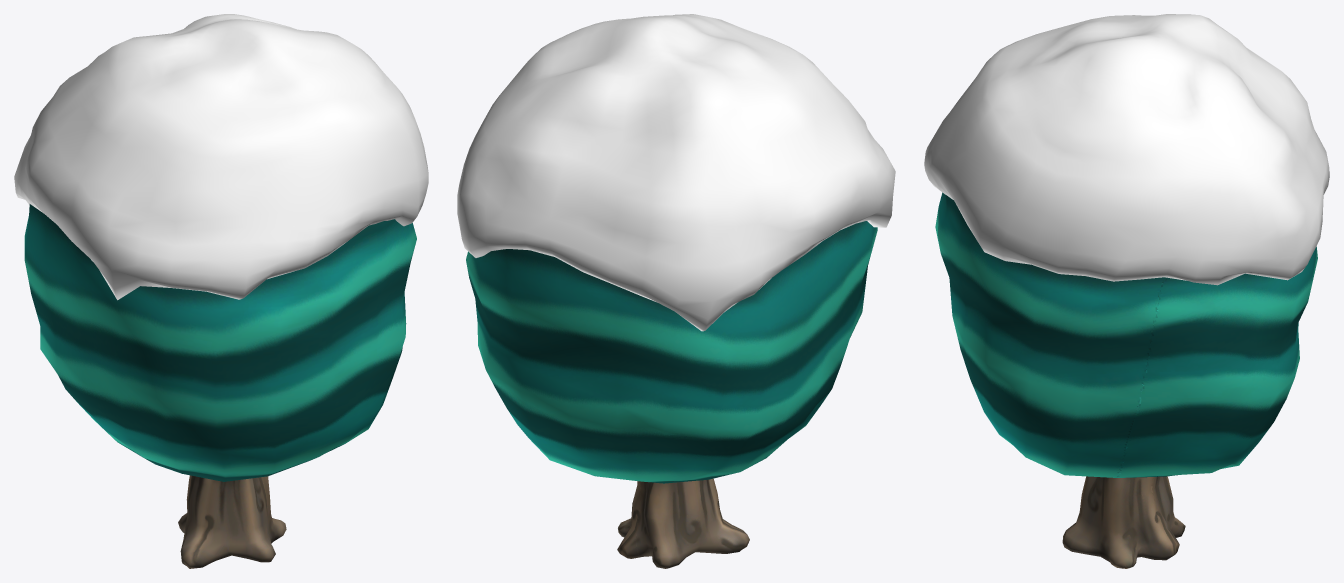
File: tree.FBX
3 views of the same model, side by side, from view 1: azimuth 30°, elevation 25°; view 2: azimuth 150°, elevation 25°; view 3: azimuth 270°, elevation 25° (orthographic).
Visible parts, largest first — view 1: PROP_IceTree; view 2: PROP_IceTree; view 3: PROP_IceTree.
Part boxes in pixels (bbox=[...]): PROP_IceTree: bbox=[14, 14, 428, 568]; PROP_IceTree: bbox=[457, 14, 895, 568]; PROP_IceTree: bbox=[924, 14, 1329, 568].
Bounding box in the file's own units: 1.46 × 2.06 × 1.46.
